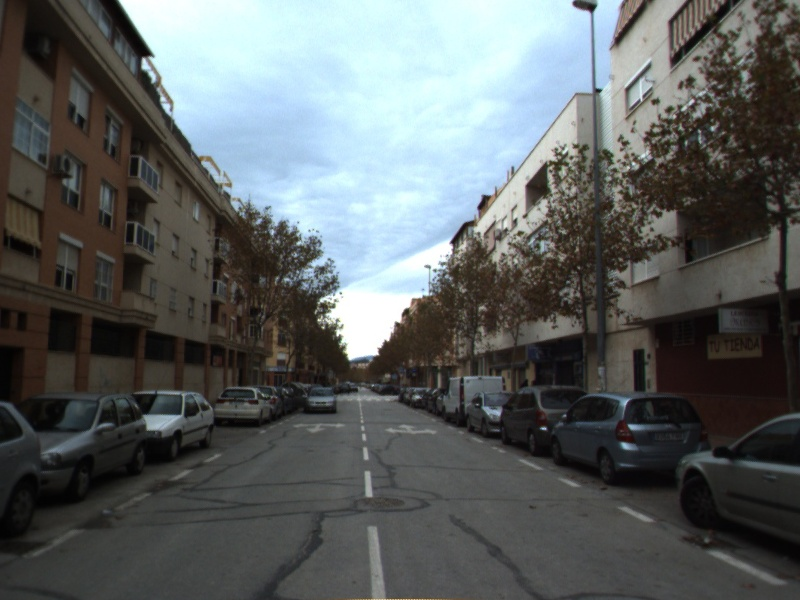STRAIGHT_LEFT_RIGHT: (383, 422, 439, 436)
